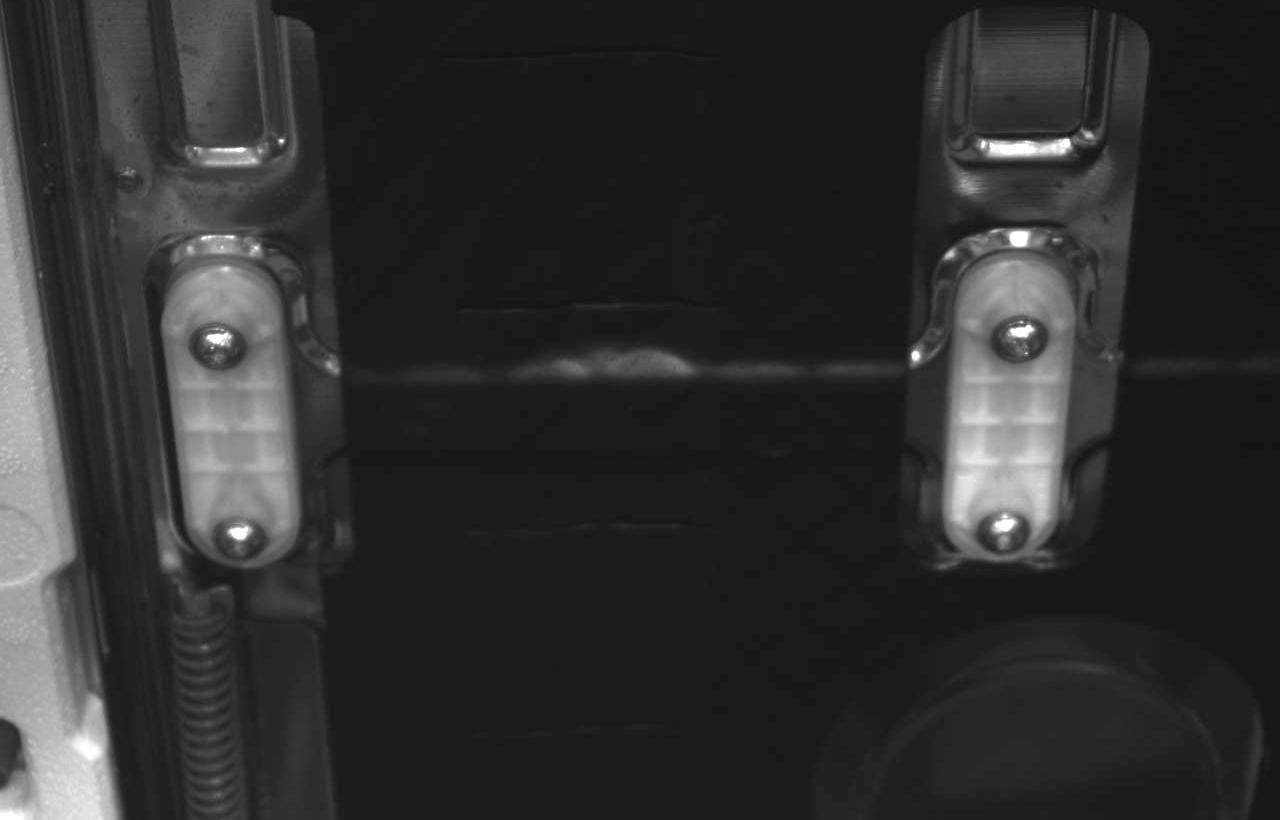vida-ok: (184, 314, 256, 381), (971, 492, 1037, 561), (986, 305, 1053, 372), (204, 509, 270, 568)
